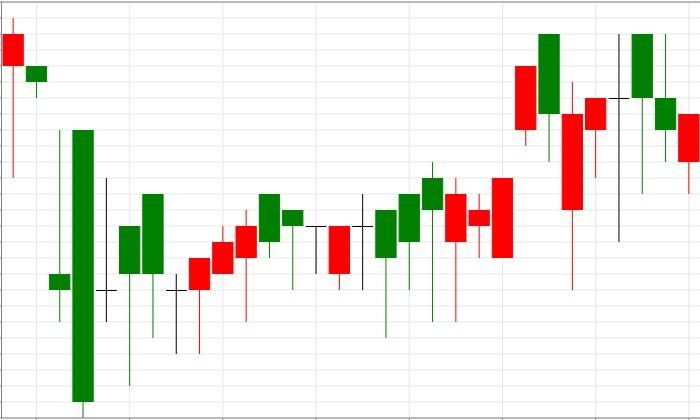bearish_engulfing_fall: (375, 33, 561, 339)
hammer_rise: (1, 17, 211, 418)
hanging_man_fall: (165, 194, 304, 354)
